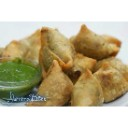samosa: (36, 26, 81, 72), (70, 23, 124, 57), (42, 60, 72, 107), (92, 62, 127, 98), (73, 68, 103, 106), (3, 36, 32, 57)
